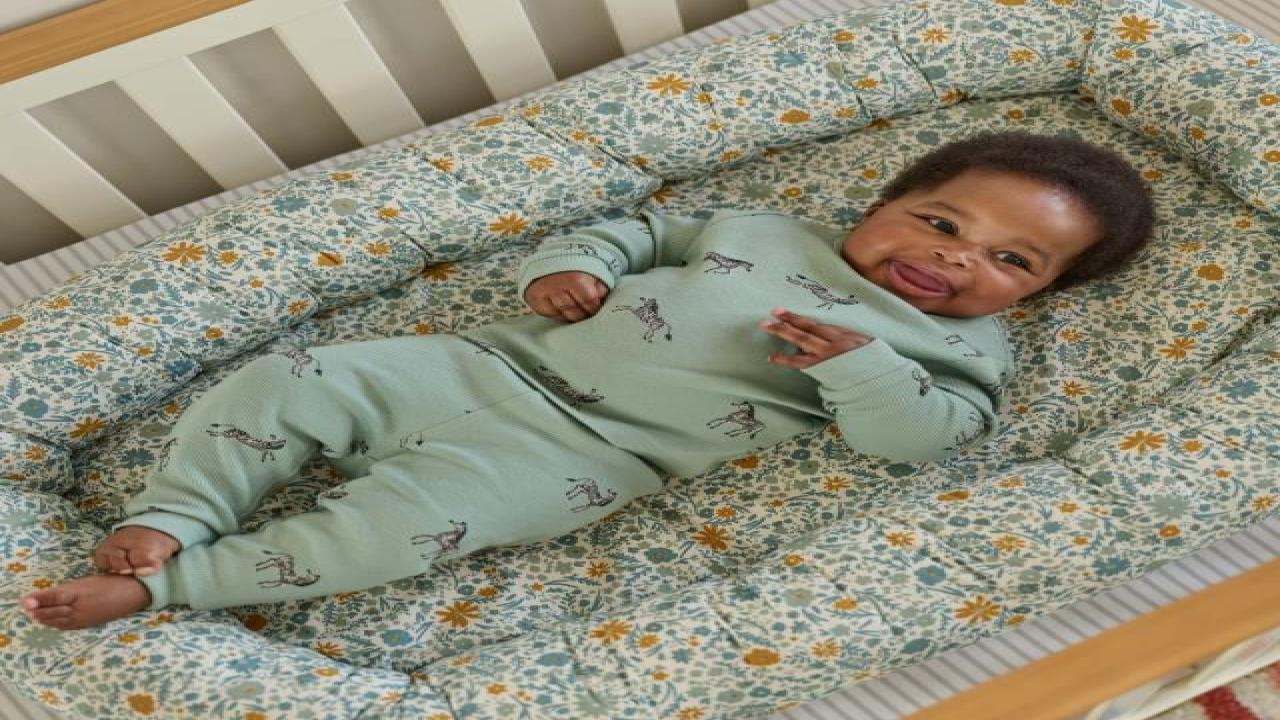hand: (757, 309, 870, 370), (523, 276, 615, 320)
